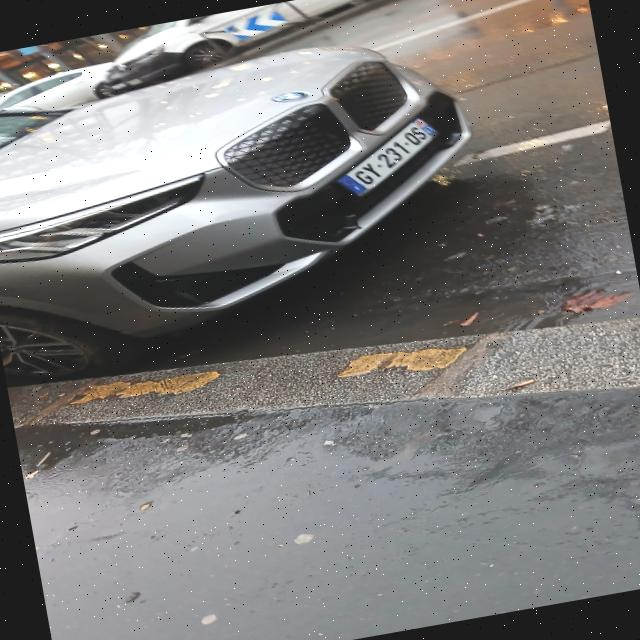EU: (337, 119, 437, 196)
France: (340, 174, 368, 194)
